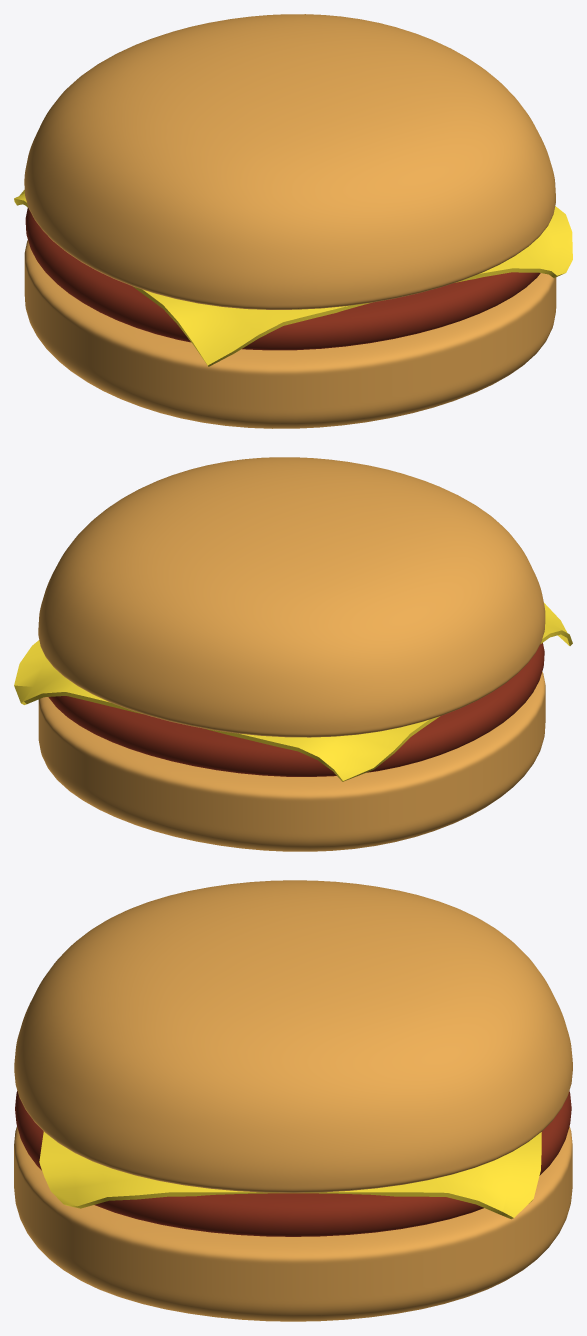
The model's file is my-hamburger.glb.
3 views of the same model, one above another, from view 1: azimuth 30°, elevation 25°; view 2: azimuth 150°, elevation 25°; view 3: azimuth 270°, elevation 25° (orthographic). The views are drawn at different scales.
Visible parts, largest first — view 1: Cube.002, Cube, Cube.001, Plane; view 2: Cube.002, Cube, Cube.001, Plane; view 3: Cube.002, Cube, Cube.001, Plane.
Boxes of the visible parts, <box> form: Cube.002: <box>24,14,555,309</box>; Cube: <box>24,240,556,428</box>; Cube.001: <box>25,207,540,350</box>; Plane: <box>14,190,572,366</box>; Cube.002: <box>38,457,545,737</box>; Cube: <box>38,672,545,851</box>; Cube.001: <box>48,643,544,776</box>; Plane: <box>14,603,572,781</box>; Cube.002: <box>14,880,572,1192</box>; Cube: <box>14,1126,572,1321</box>; Cube.001: <box>15,1091,571,1236</box>; Plane: <box>39,1131,541,1219</box>.
Size of the model in its own units: 9.06 by 5.28 by 9.06.
